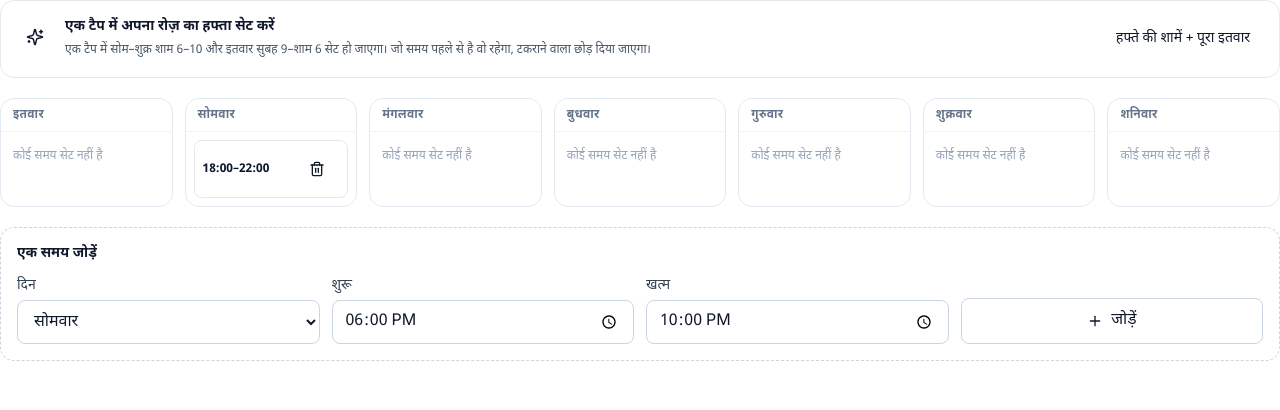
Test: AvailabilityEditor › refuses a window that overlaps one already active, and sends nothing
The image size is (1280, 410).
Click the button "जोड़ें". click: (1112, 321)
box: [960,298,1263,344]
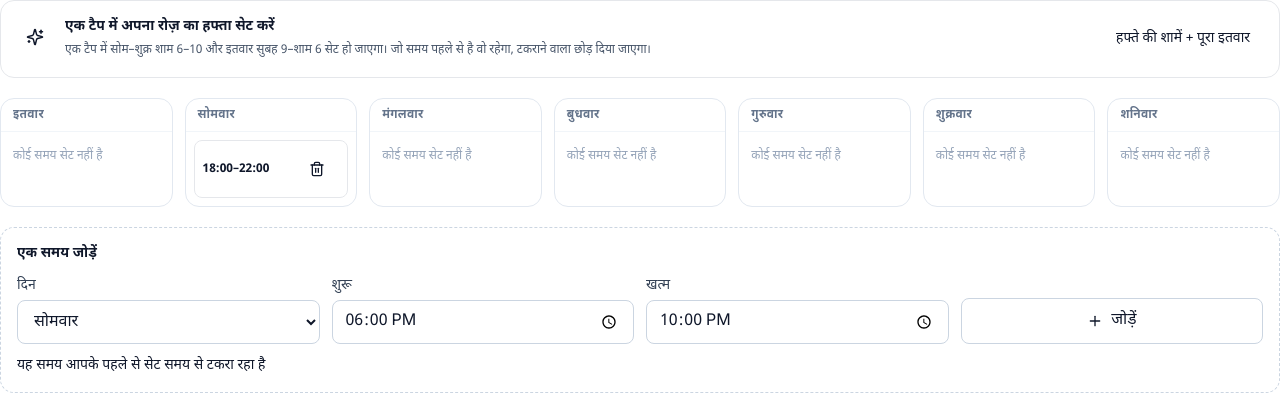
Expected: the message reads "यह समय आपके पहले से सेट समय से टकरा रहा है", [17,356,265,375]
